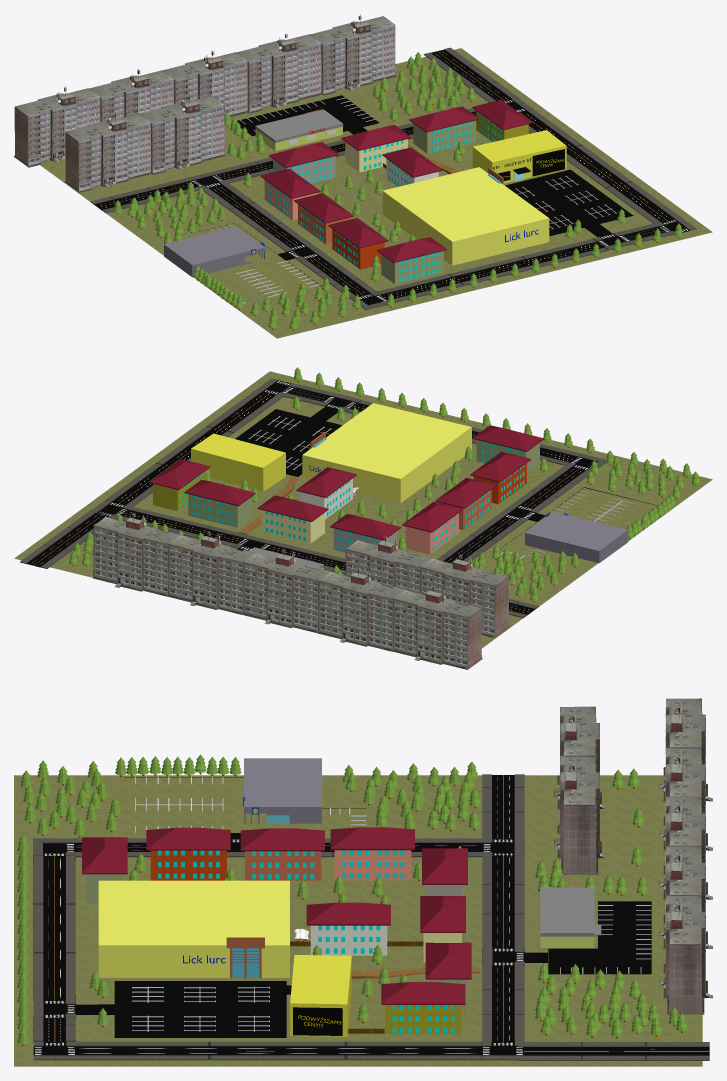
Rendered from Parking_map.glb.
3 renders of one model, top to bottom at view 1: azimuth 30°, elevation 25°; view 2: azimuth 150°, elevation 25°; view 3: azimuth 270°, elevation 25°, orthographic. The views are drawn at different scales.
Visible parts, largest first — view 1: Plane_col, leclerc_col, Block of flats.005_col, Block of flats_col_col, Block of flats.006_col, Block of flats.001_col, Block of flats.004_col, parkingl_col, Cube, Block of flats.002_col, Road.002_col, ledl_col (+18 smaller); view 2: Plane_col, leclerc_col, Block of flats.004_col, Block of flats.002_col, Block of flats.003_col, Block of flats.006_col, Block of flats_col_col, Block of flats.005_col, Cube, ledl_col, Road.002_col, parkingl_col (+18 smaller); view 3: Plane_col, leclerc_col, parkingl_col, Road.002_col, Road.001_col, parkingB_col, Cube, ledl_col, Block of flats.006_col, Block of flats.001_col, blok6_col, blok8_col (+26 smaller).
Part boxes in pixels (x1,y1,x2,y2): Plane_col: (40, 48, 712, 338); leclerc_col: (382, 167, 549, 265); Block of flats.005_col: (64, 113, 151, 192); Block of flats_col_col: (237, 34, 322, 113); Block of flats.006_col: (310, 16, 396, 95); Block of flats.001_col: (140, 95, 225, 174); Block of flats.004_col: (14, 88, 100, 167); parkingl_col: (505, 169, 633, 236); Cube: (472, 130, 566, 183); Block of flats.002_col: (163, 52, 248, 116); Road.002_col: (519, 109, 681, 223); ledl_col: (164, 226, 265, 277); Plane_col: (14, 371, 712, 648); leclerc_col: (302, 403, 471, 503); Block of flats.004_col: (392, 590, 482, 669); Block of flats.002_col: (242, 553, 331, 633); Block of flats.003_col: (317, 572, 406, 651); Block of flats.006_col: (92, 517, 181, 596); Block of flats_col_col: (167, 535, 257, 614); Block of flats.005_col: (420, 558, 509, 637); Cube: (191, 433, 285, 491); ledl_col: (525, 512, 628, 563); Road.002_col: (106, 389, 283, 506); parkingl_col: (235, 409, 342, 476); Plane_col: (14, 775, 702, 1066); leclerc_col: (98, 880, 289, 978); parkingl_col: (114, 981, 286, 1037); Road.002_col: (73, 1041, 482, 1060); Road.001_col: (33, 855, 75, 1000); parkingB_col: (124, 777, 651, 974); Cube: (278, 955, 351, 1036); ledl_col: (243, 758, 321, 823); Block of flats.006_col: (659, 895, 712, 1014); Block of flats.001_col: (554, 756, 605, 874); blok6_col: (330, 827, 414, 880); blok8_col: (146, 827, 230, 880).
Bounding box in the file's own units: 185 × 27.7 × 183.
60 materials, 5 textured.
